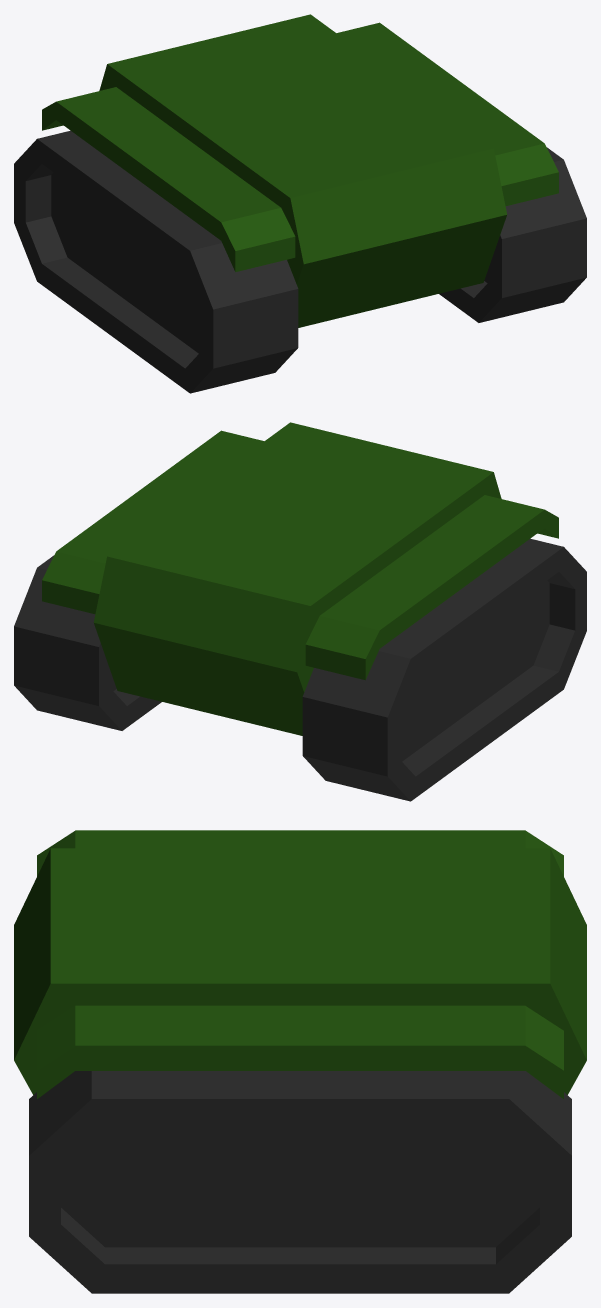
The model's file is TankBase.fbx.
3 views of the same model, one above another, from view 1: azimuth 30°, elevation 25°; view 2: azimuth 150°, elevation 25°; view 3: azimuth 270°, elevation 25° (orthographic). The views are drawn at different scales.
Parts seen in each view (by area): view 1: Tank Base; view 2: Tank Base; view 3: Tank Base.
Boxes of the visible parts, x1,y1,x2,y2 form: Tank Base: [14, 14, 586, 393]; Tank Base: [14, 422, 586, 801]; Tank Base: [14, 830, 586, 1293].
Bounding box in the file's own units: 127 × 60.12 × 123.
